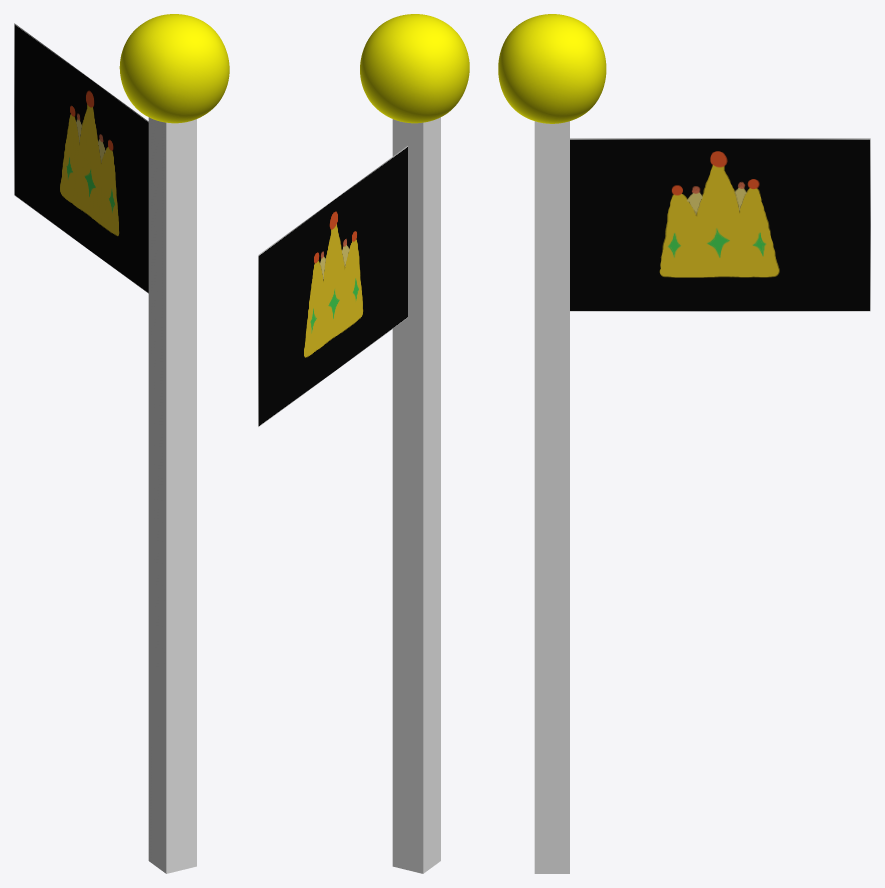
Rendered from goal.obj.
3 views of the same model, side by side, from view 1: azimuth 30°, elevation 25°; view 2: azimuth 150°, elevation 25°; view 3: azimuth 270°, elevation 25° (orthographic).
Visible parts, largest first — view 1: 平面; view 2: 平面; view 3: 平面.
Part boxes in pixels (box(x1,y1,x2,y2)): 平面: box(14, 14, 229, 873); 平面: box(258, 14, 469, 873); 平面: box(498, 14, 870, 873).
Bounding box in the file's own units: 0.9058 × 7.83 × 3.12.
1 material, 1 textured.
